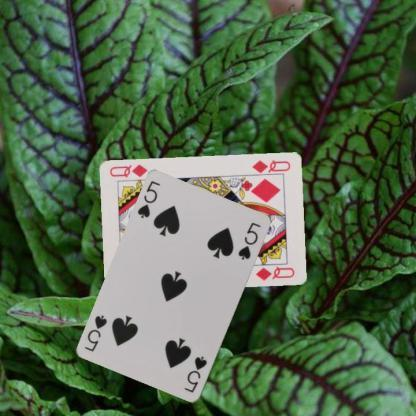5s: (134, 178, 162, 220), (180, 354, 209, 394)
Qd: (247, 158, 291, 178)
